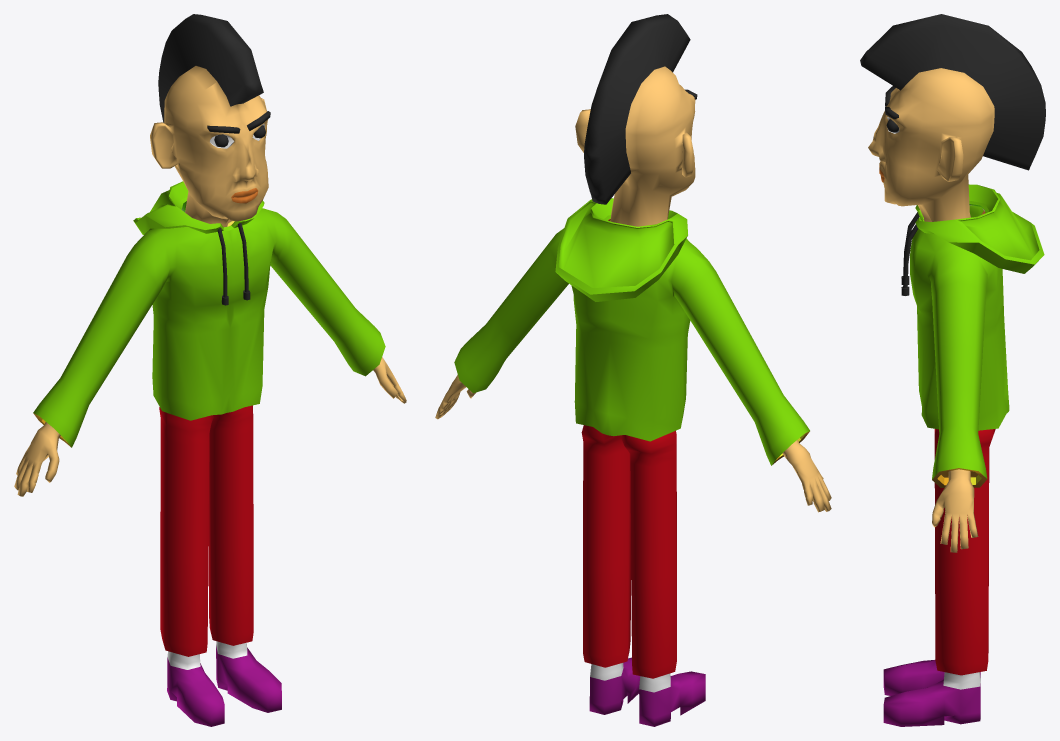
The model's file is Male_3.fbx.
The picture shows the model from 3 angles, left to right: view 1: azimuth 30°, elevation 25°; view 2: azimuth 150°, elevation 25°; view 3: azimuth 270°, elevation 25°; orthographic projection.
Visible parts, largest first — view 1: Male_3; view 2: Male_3; view 3: Male_3.
Part boxes in pixels (x1=…): Male_3: x1=14, y1=14, x2=406, y2=726; Male_3: x1=435, y1=14, x2=831, y2=726; Male_3: x1=860, y1=14, x2=1045, y2=726.
Size of the model in its own units: 114 by 192 by 46.81.
1 material, 1 textured.
